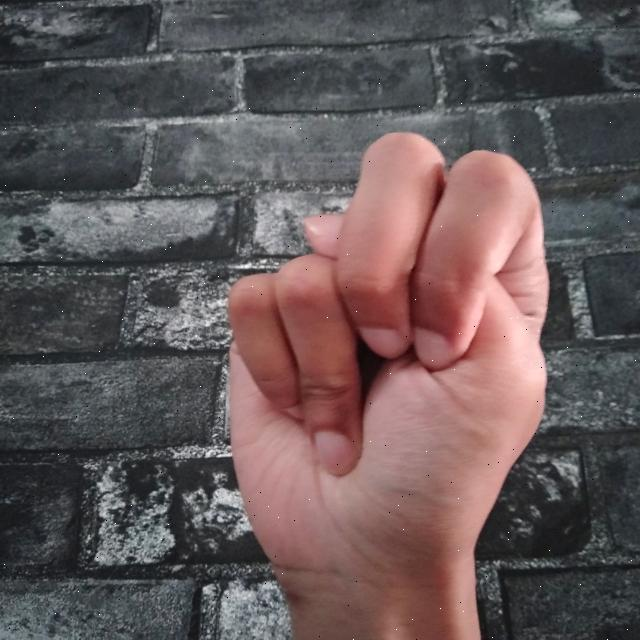N: (214, 126, 560, 640)
